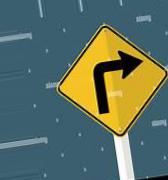right: (57, 23, 167, 137)
